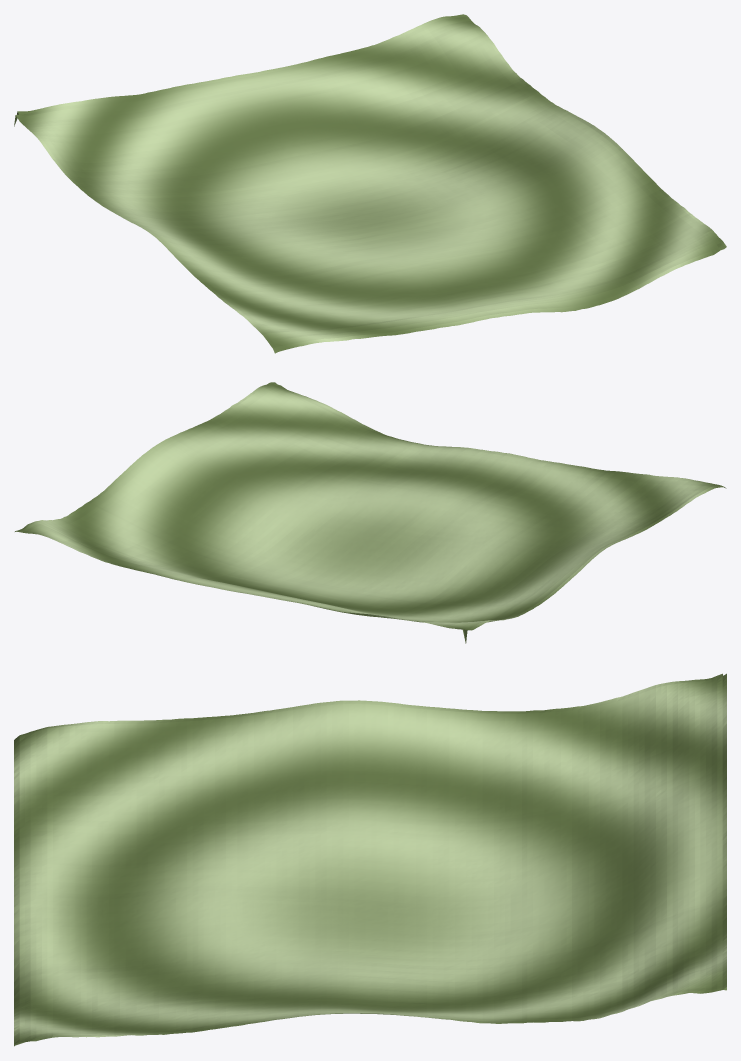
Rendered from terrain-lod2.glb.
3 renders of one model, top to bottom at view 1: azimuth 30°, elevation 25°; view 2: azimuth 150°, elevation 25°; view 3: azimuth 270°, elevation 25°, orthographic. The views are drawn at different scales.
Parts seen in each view (by area): view 1: geometry_0; view 2: geometry_0; view 3: geometry_0.
Boxes of the visible parts, x1,y1,x2,y2 form: geometry_0: (14,14,726,353); geometry_0: (15,382,726,643); geometry_0: (14,673,726,1046).
Bounding box in the file's own units: 511 × 88.08 × 511.
1 material, 1 textured.
